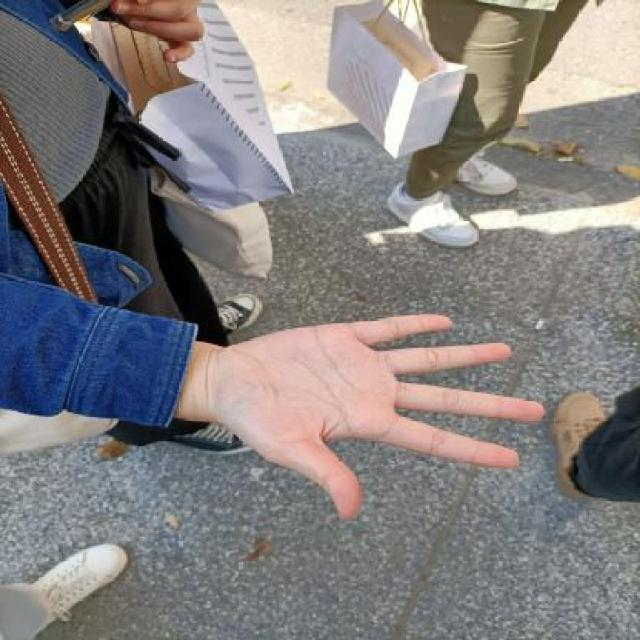bare_hand: (193, 293, 552, 538)
